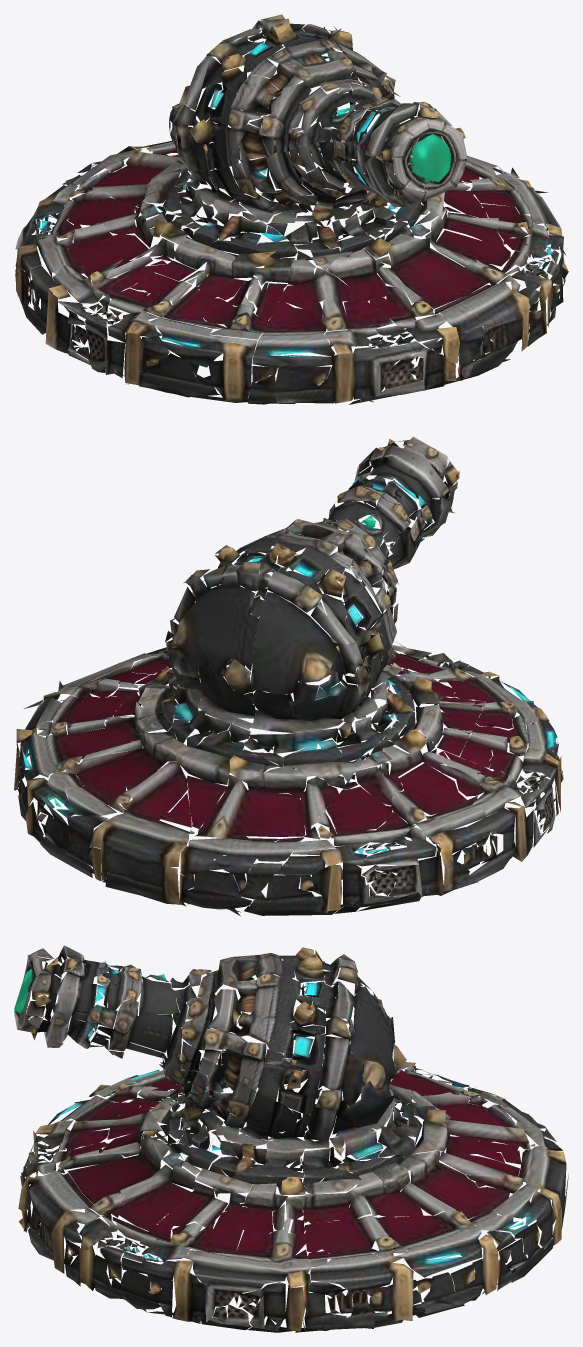
File: warrior-4-tier-2.glb
3 views of the same model, one above another, from view 1: azimuth 30°, elevation 25°; view 2: azimuth 150°, elevation 25°; view 3: azimuth 270°, elevation 25° (orthographic).
Visible parts, largest first — view 1: fixed-platform, moving-assembly; view 2: fixed-platform, moving-assembly; view 3: fixed-platform, moving-assembly.
Part boxes in pixels (x1,y1,x2,y2): fixed-platform: [15, 126, 568, 404]; moving-assembly: [169, 14, 467, 228]; fixed-platform: [14, 637, 563, 916]; moving-assembly: [165, 436, 459, 733]; fixed-platform: [18, 1053, 568, 1332]; moving-assembly: [14, 945, 406, 1155].
Bounding box in the file's own units: 0.8318 × 0.4602 × 0.8324.
Materials: 2 (2 with a texture image).
